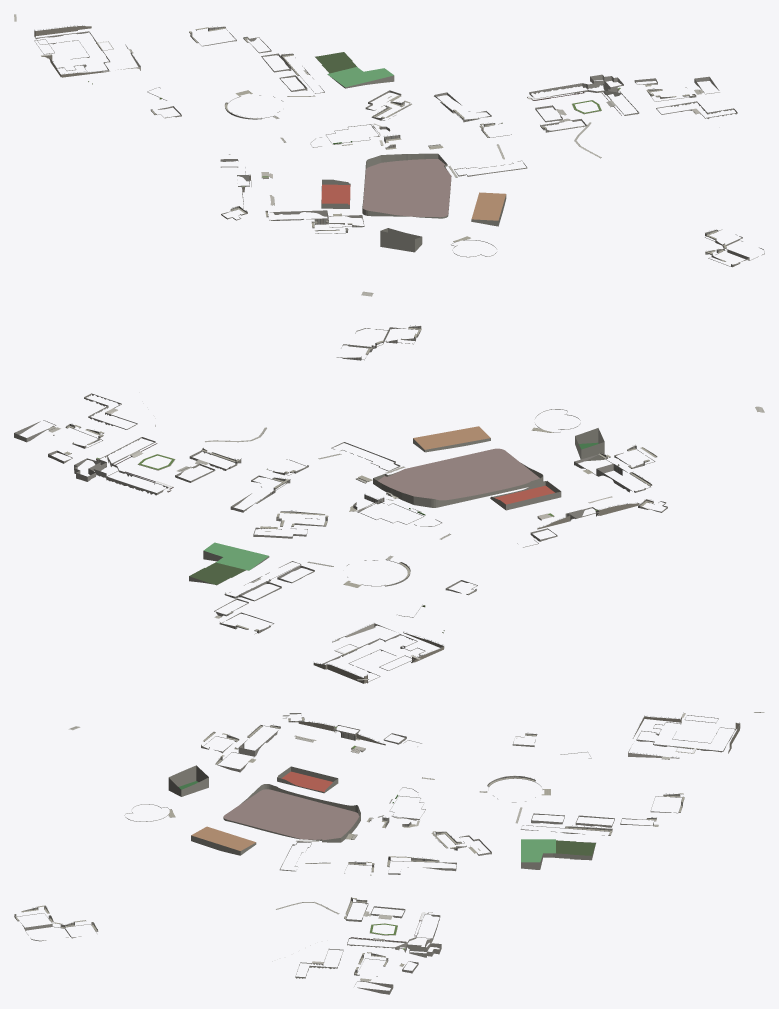
3 views of the same model, one above another, from view 1: azimuth 30°, elevation 25°; view 2: azimuth 150°, elevation 25°; view 3: azimuth 270°, elevation 25° (orthographic). The views are drawn at different scales.
Parts seen in each view (by area): view 1: outer-field-apron, site-concrete, plaza__edgeClosure, kyonggi-stonebank, outer-tennis-slab, outer-east-hard-l, outer-canopy-w451562709, kyonggi-paving, site-10, outer-west-slab, outer-east-futsal-a; view 2: site-concrete, outer-field-apron, plaza__edgeClosure, kyonggi-stonebank, site-10, outer-tennis-slab, outer-east-hard-l, outer-canopy-w451562709, kyonggi-paving, outer-east-futsal-a; view 3: outer-field-apron, site-concrete, plaza__edgeClosure, kyonggi-stonebank, kyonggi-paving, outer-tennis-slab, outer-east-hard-l, outer-canopy-w451562709, site-10, outer-west-slab, outer-east-futsal-a.
Part boxes in pixels (x1,y1,x2,y2): outer-field-apron: (362,159,451,217); site-concrete: (34,29,764,266); plaza__edgeClosure: (96,41,704,252); kyonggi-stonebank: (150,26,740,267); outer-tennis-slab: (471,192,505,220); outer-east-hard-l: (327,67,393,87); outer-canopy-w451562709: (14,14,703,296); kyonggi-paving: (151,27,726,261); site-10: (34,26,619,208); outer-west-slab: (321,184,350,204); outer-east-futsal-a: (315,52,356,73); site-concrete: (14,327,667,683); outer-field-apron: (378,448,539,500); plaza__edgeClosure: (47,410,604,679); kyonggi-stonebank: (65,326,657,633); site-10: (96,425,639,683); outer-tennis-slab: (413,426,490,449); outer-east-hard-l: (204,542,268,570); outer-canopy-w451562709: (47,406,764,680); kyonggi-paving: (67,328,656,630); outer-east-futsal-a: (189,562,245,584); outer-field-apron: (223,789,359,840); site-concrete: (16,713,735,994); plaza__edgeClosure: (168,712,760,982); kyonggi-stonebank: (14,717,684,975); kyonggi-paving: (16,718,684,973); outer-tennis-slab: (191,826,255,850); outer-east-hard-l: (521,839,555,862); outer-canopy-w451562709: (68,712,764,981); site-10: (298,716,740,952); outer-west-slab: (281,771,332,791); outer-east-futsal-a: (556,840,595,855).
Size of the model in its own units: 702 by 67.15 by 883.
27 materials, 5 textured.
